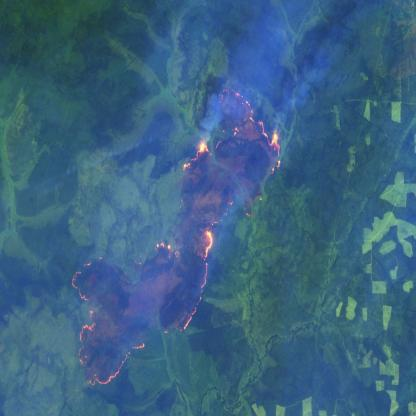fire: (68, 85, 282, 393)
